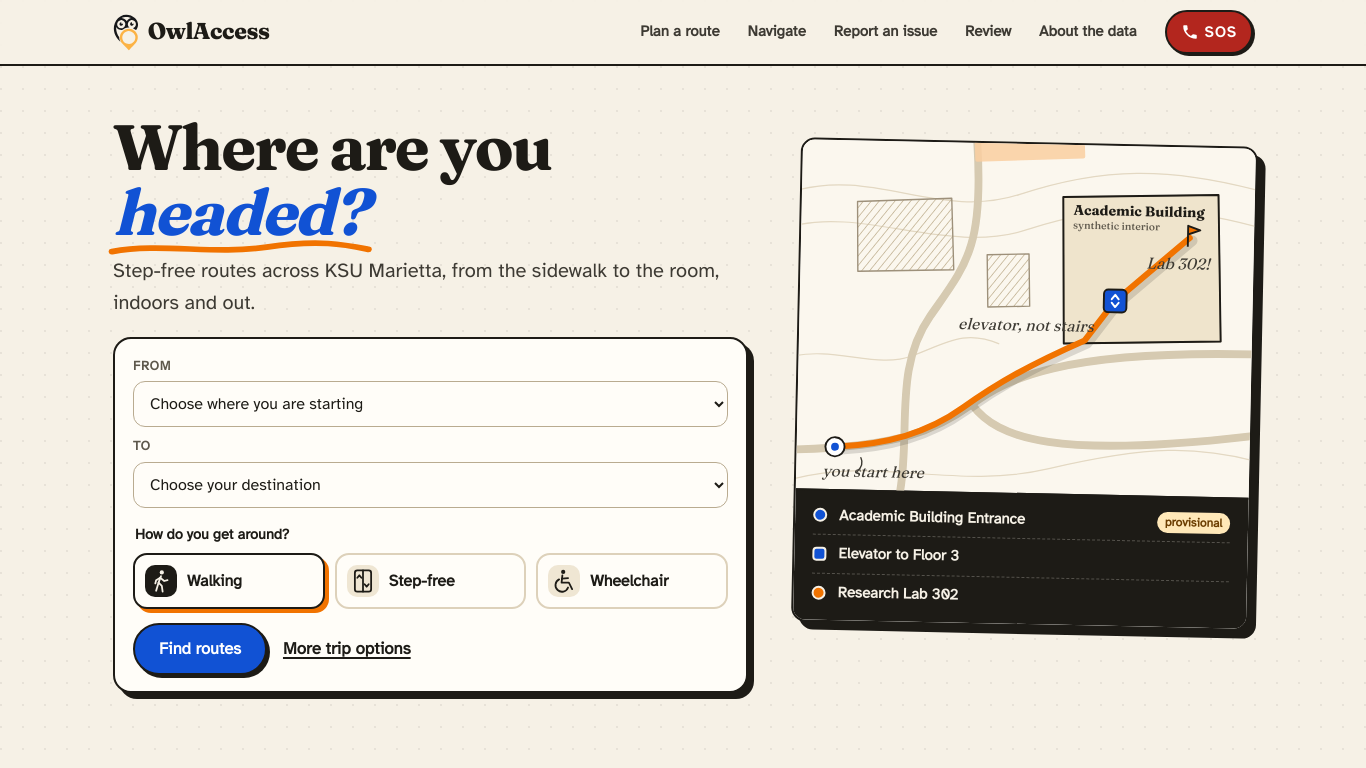
plan -> suggestions -> navigate (jsdom, not a real browser) › the landing form plans a trip straight to the route options, with the chosen mobility
This screenshot has width=1366, height=768.
Later steps or results of the test are not shown.
Click the button "Find routes". click: coordinates (200, 649)
box: [133,623,267,675]
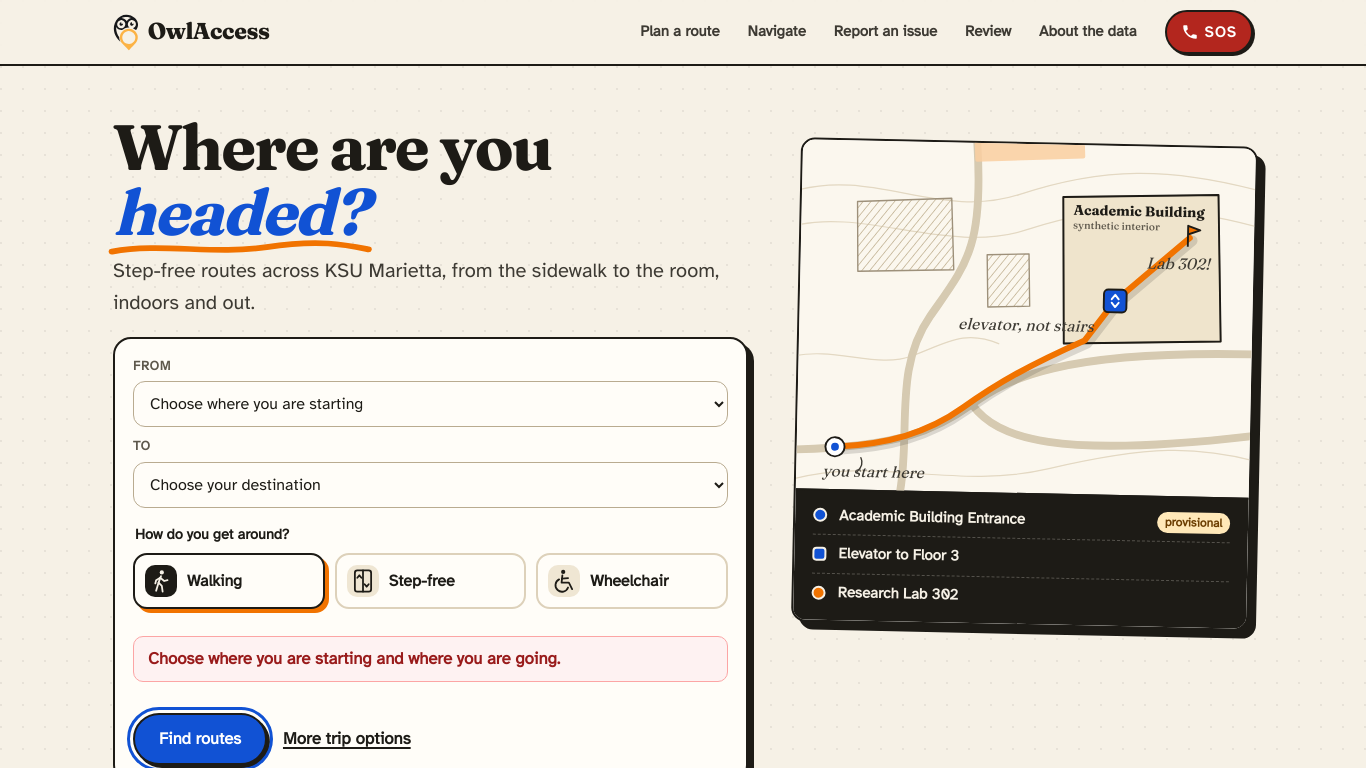
Expected: the message shows "Choose where", [148,648,560,669]
